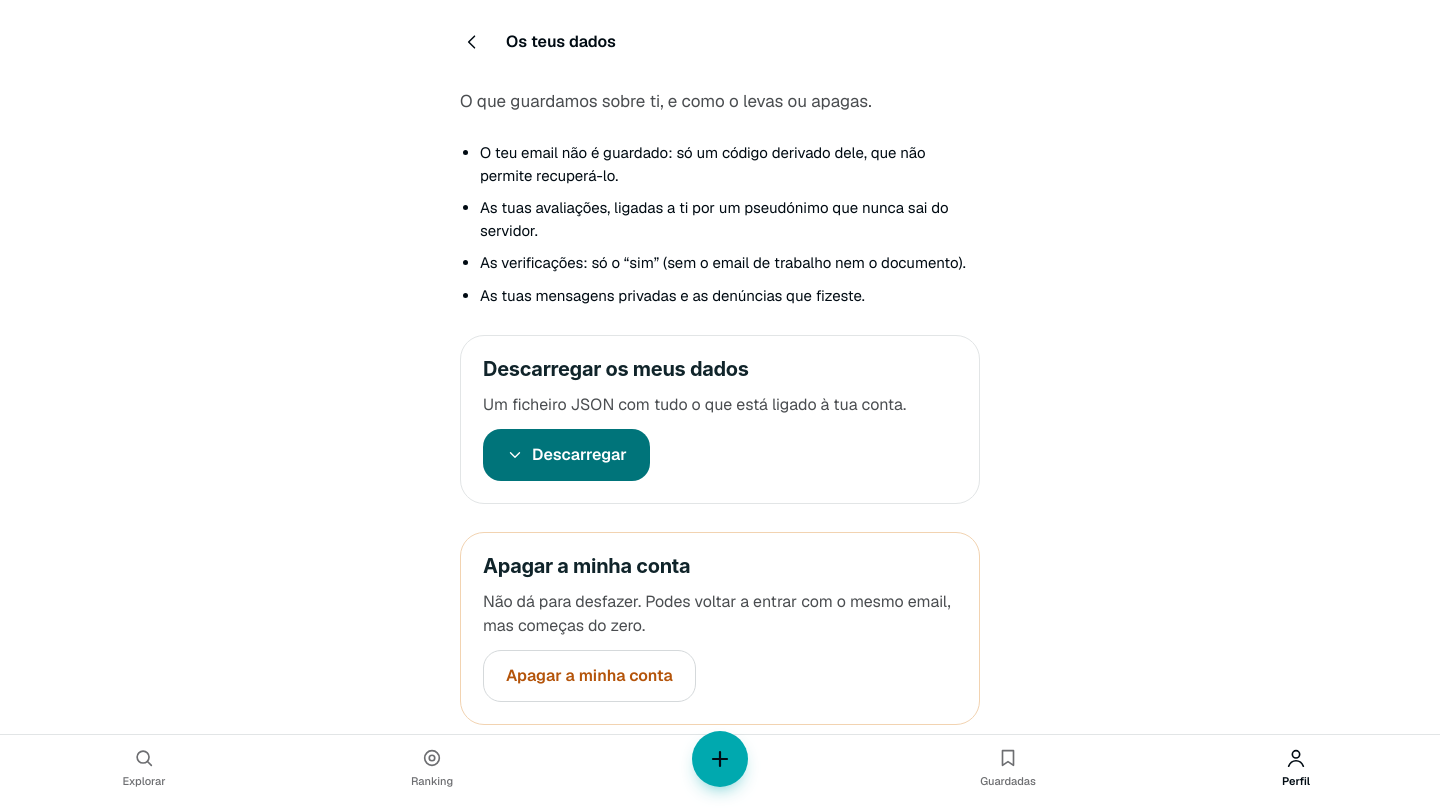
it: Os teus dados, demonstração (mobile) › apagar mantendo as avaliações
The image size is (1440, 810).
What coordinates should you click on to do the following:
click the button "Apagar a minha conta"
I would click on:
 (589, 676)
Its box is [483,650,696,702].
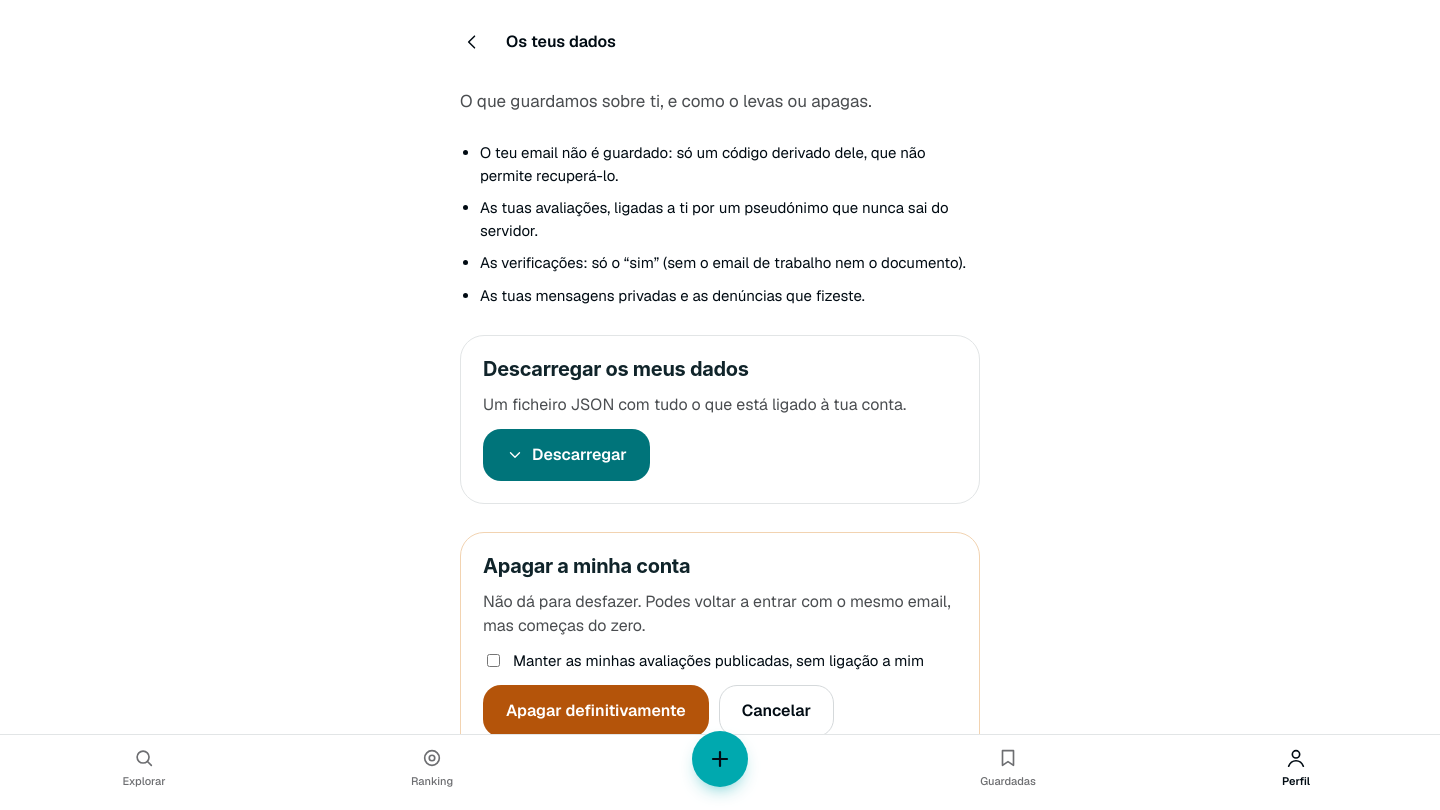
What coordinates should you click on to do the following:
click the checkbox
I would click on:
 (494, 661)
Its box is [487,654,500,667].
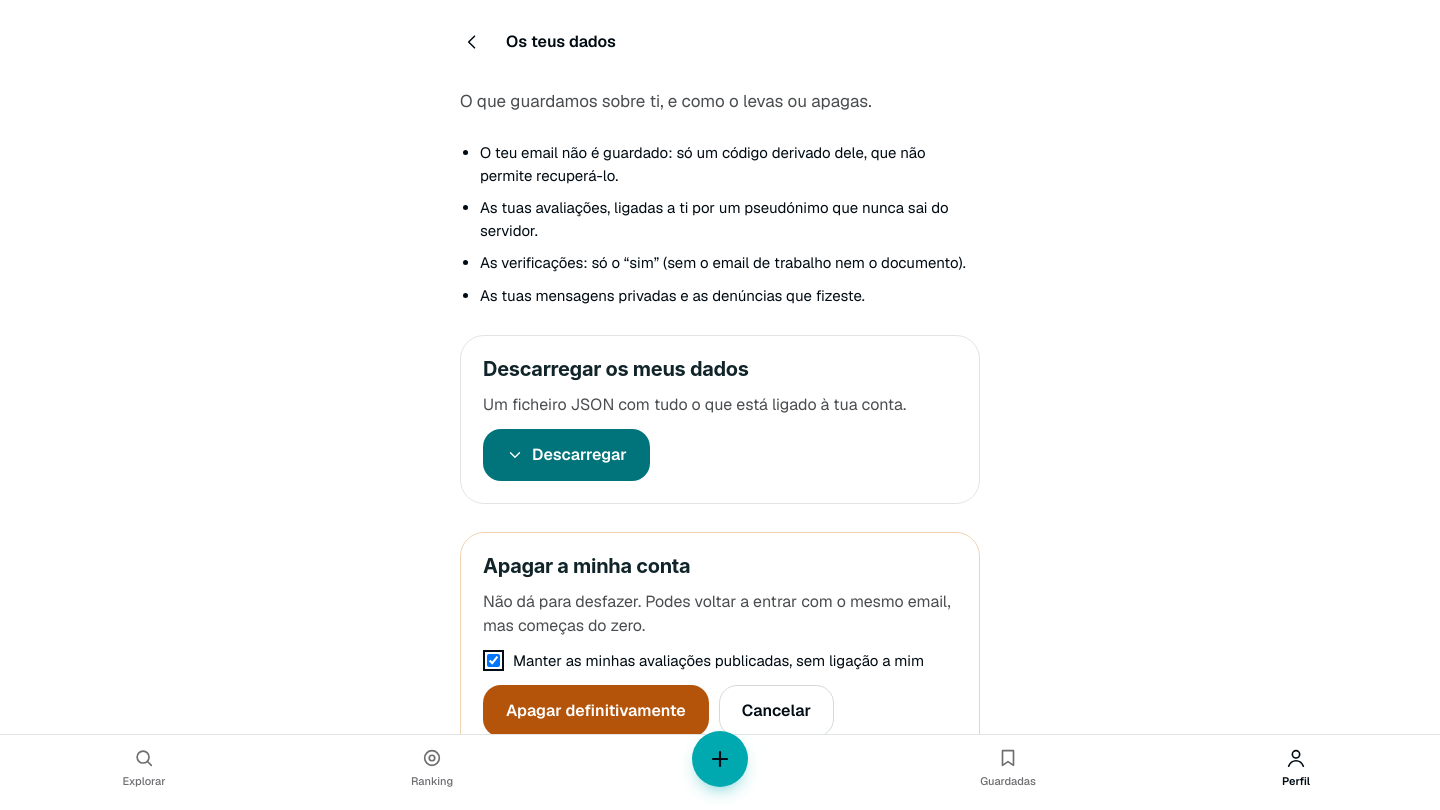
What coordinates should you click on to do the following:
click the button "Apagar definitivamente"
I would click on:
 (596, 711)
Its box is [483,685,709,737].
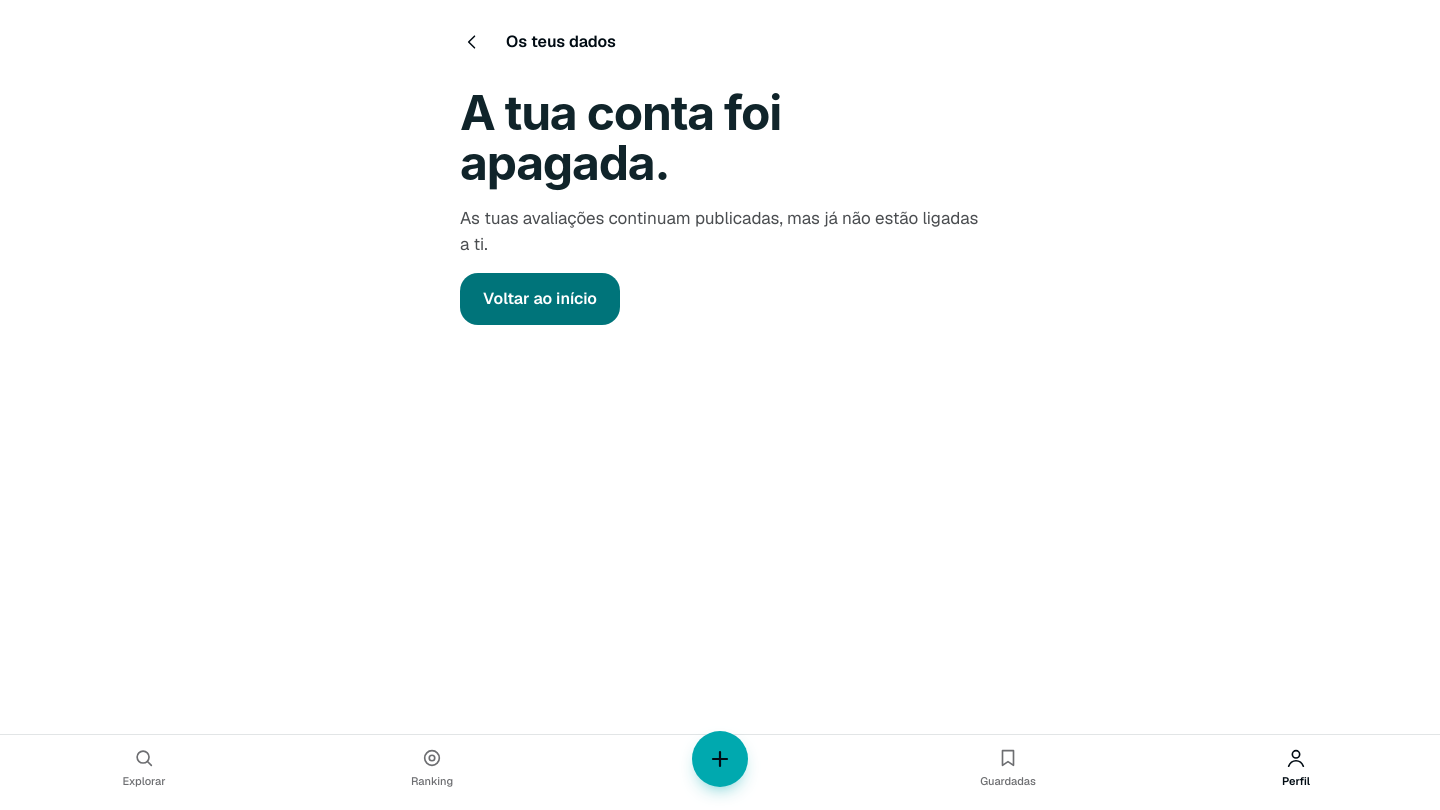
expect the message shows "As tuas avaliações continuam publicadas, mas já não estão ligadas a ti.": met, box [460,207,978,255]
